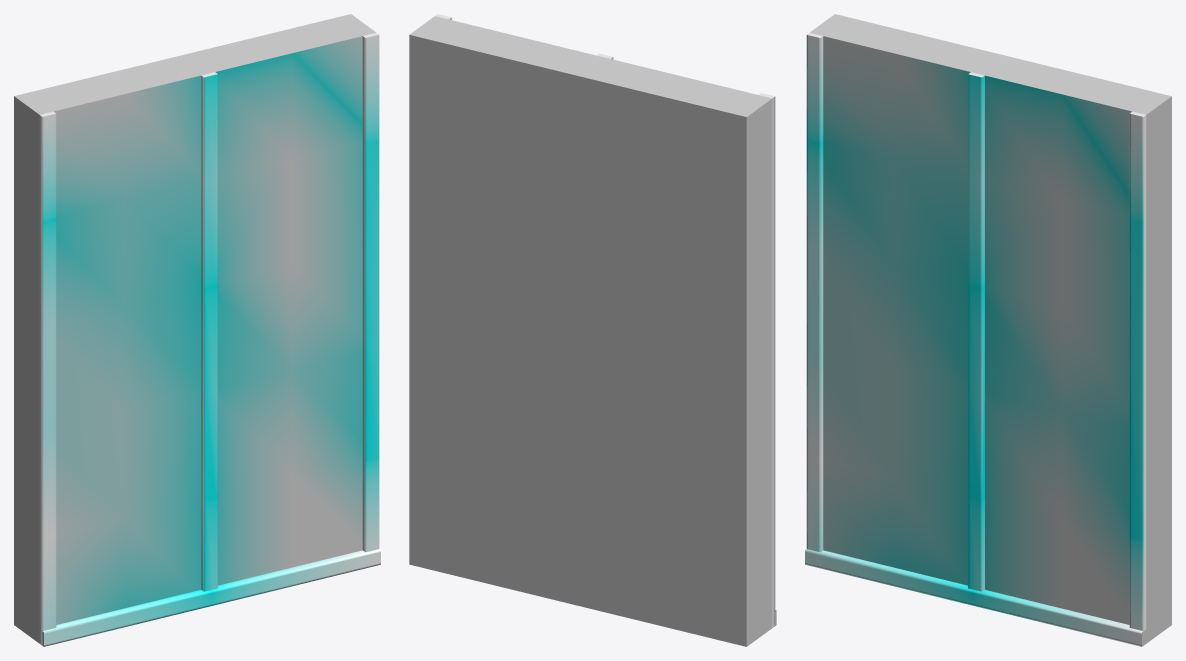
Rendered from SM_Throne_Exterior_Wall_02.fbx.
3 views of the same model, side by side, from view 1: azimuth 30°, elevation 25°; view 2: azimuth 150°, elevation 25°; view 3: azimuth 330°, elevation 25° (orthographic).
Visible parts, largest first — view 1: SM_Throne_Exterior_Wall_02; view 2: SM_Throne_Exterior_Wall_02; view 3: SM_Throne_Exterior_Wall_02.
Boxes of the visible parts, box(x1,y1,x2,y2) form: SM_Throne_Exterior_Wall_02: box(14, 14, 380, 646); SM_Throne_Exterior_Wall_02: box(409, 14, 776, 646); SM_Throne_Exterior_Wall_02: box(805, 14, 1171, 646).
Bounding box in the file's own units: 7.68 × 11.52 × 1.18.
